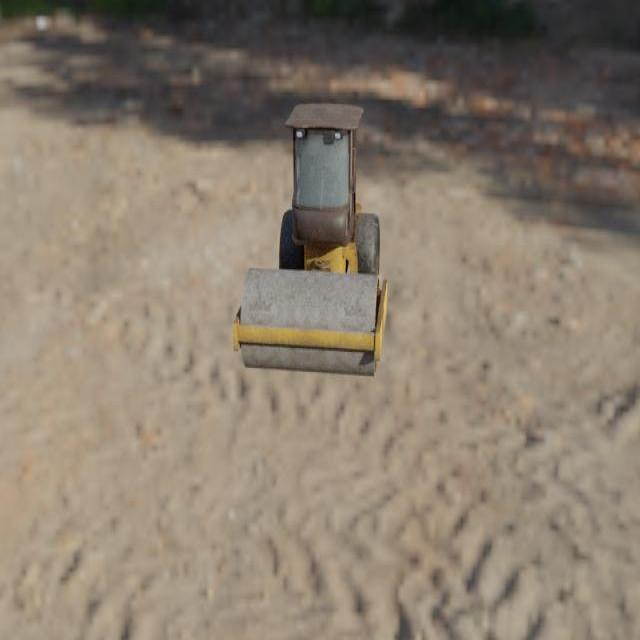Roller: (232, 103, 387, 377)
